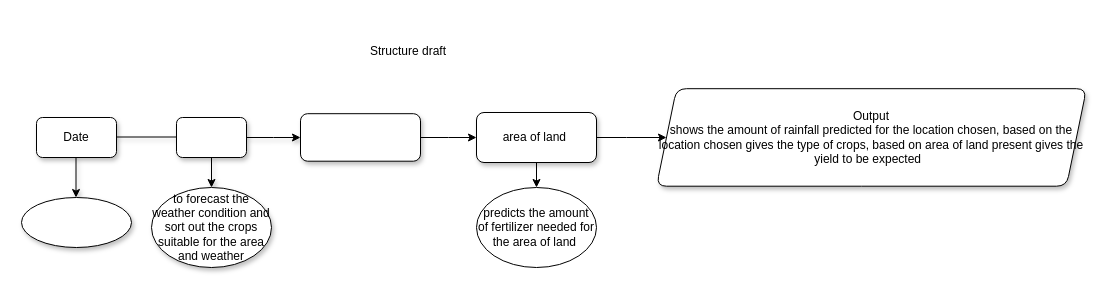
The diagram is 1110 pixels wide and 292 high, and some of its shapes have lost their labels. The centre of each missing label's shape, as x and y in pixels:
"Identifying the season" goes at (x=77, y=223).
"Option to choose one/different crops" goes at (x=361, y=138).
"Place" goes at (x=212, y=138).
